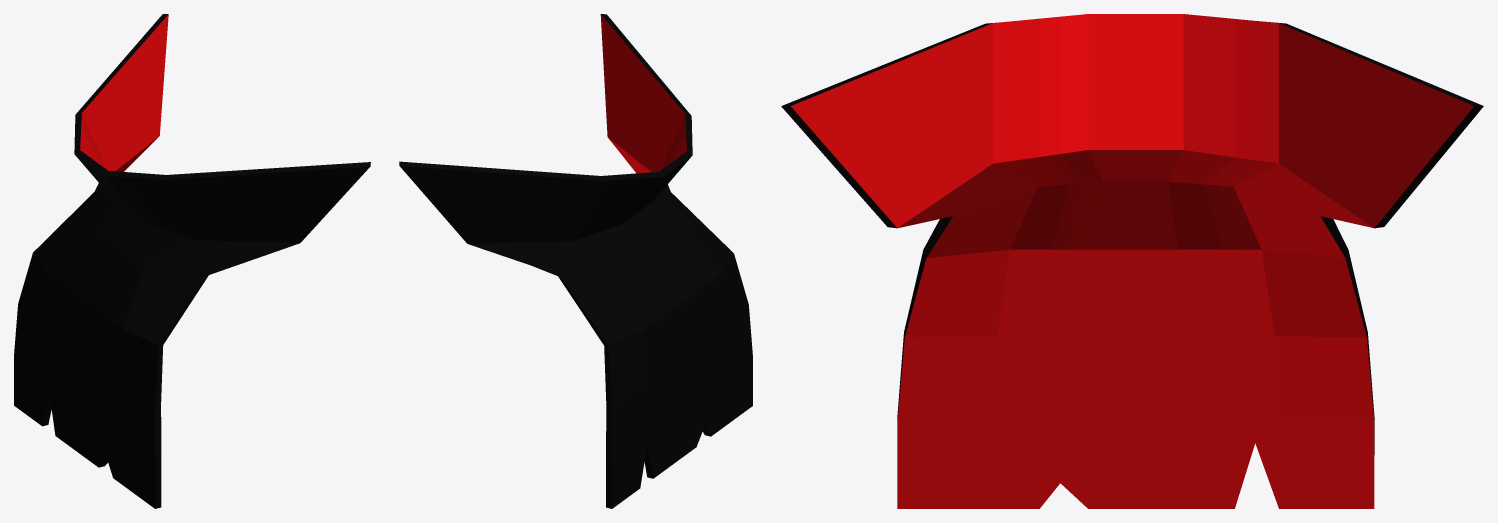
The model's file is Vampire_Assets_CapeRelieve.fbx.
3 renders of one model, left to right at view 1: azimuth 30°, elevation 25°; view 2: azimuth 150°, elevation 25°; view 3: azimuth 270°, elevation 25°, orthographic. The views are drawn at different scales.
Parts seen in each view (by area): view 1: Plane.001; view 2: Plane.001; view 3: Plane.001.
Part boxes in pixels (x1=…): Plane.001: x1=14, y1=14, x2=370, y2=508; Plane.001: x1=399, y1=14, x2=752, y2=508; Plane.001: x1=781, y1=14, x2=1483, y2=508.
Size of the model in its own units: 411 by 694 by 804.
